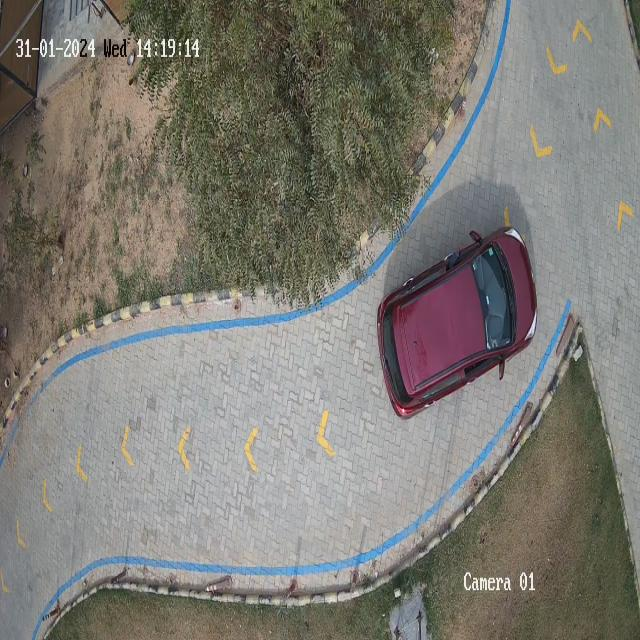car: (378, 227, 538, 418)
